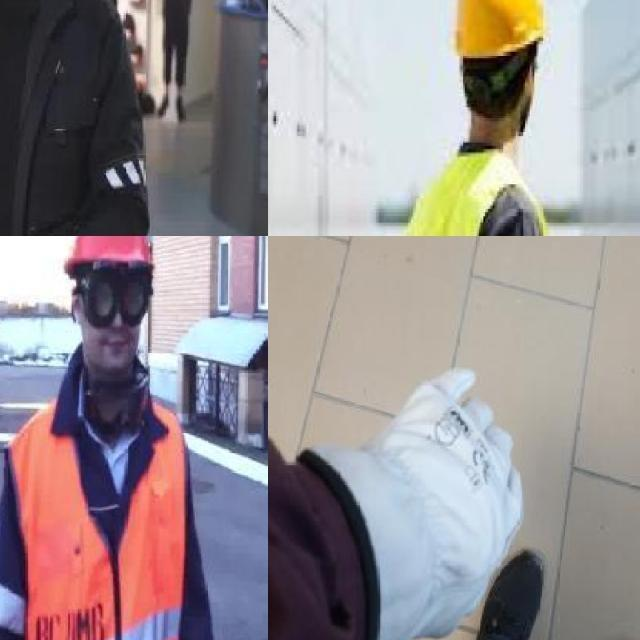apron: (369, 322, 518, 622)
